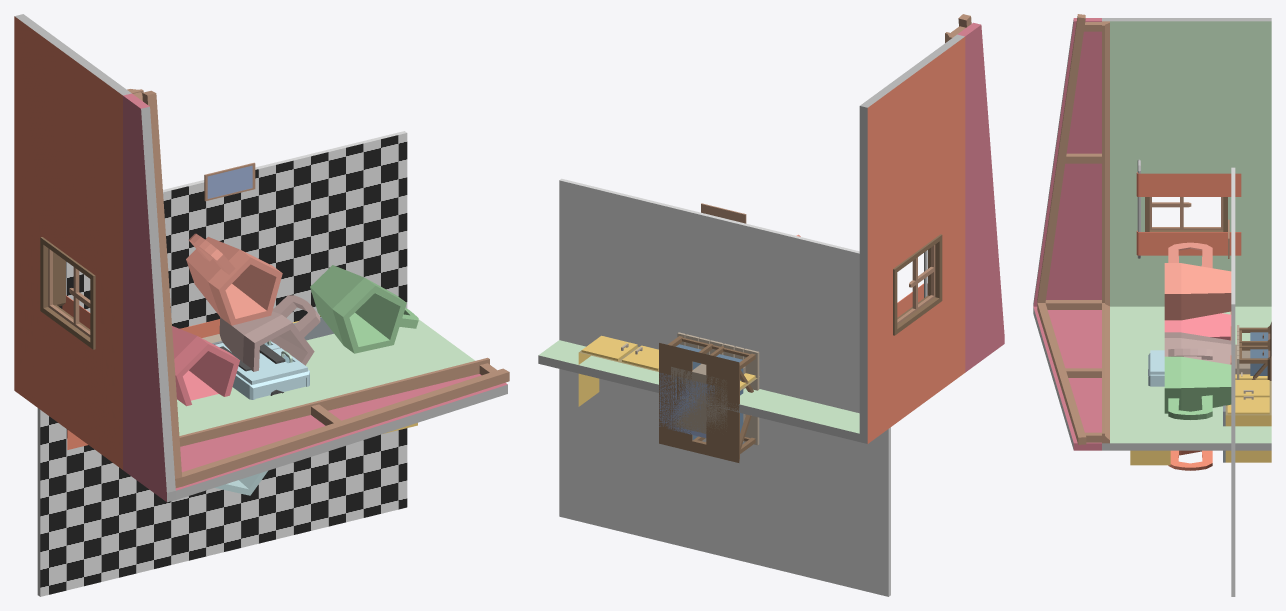
File: low-poly-kitchen-292f9c.glb
3 renders of one model, left to right at view 1: azimuth 30°, elevation 25°; view 2: azimuth 150°, elevation 25°; view 3: azimuth 270°, elevation 25°, orthographic. The views are drawn at different scales.
Parts seen in each view (by area): view 1: PropMesh; view 2: PropMesh; view 3: PropMesh.
Boxes of the visible parts, x1=… form: PropMesh: x1=14, y1=14, x2=509, y2=596; PropMesh: x1=538, y1=14, x2=1004, y2=596; PropMesh: x1=1033, y1=14, x2=1271, y2=596.
Size of the model in its own units: 1.5 by 2.2 by 1.06.
Materials: 2 (2 with a texture image).
